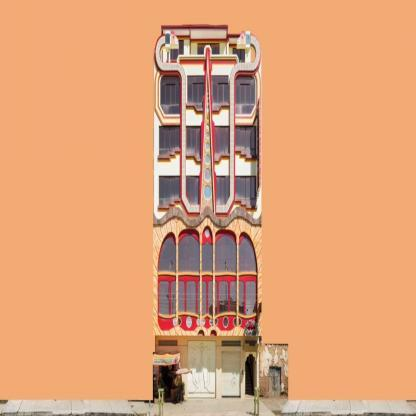Building Outline: (153, 23, 262, 400)
Door: (188, 341, 216, 398), (222, 352, 241, 399), (246, 352, 257, 396)
Facade: (152, 23, 262, 400)
Glass Wall: (158, 235, 257, 274)
Pillar: (237, 243, 239, 326), (176, 245, 178, 327), (200, 244, 202, 326), (213, 244, 215, 326)
Roof: (161, 24, 241, 38)
Shop: (153, 352, 182, 399), (257, 98, 261, 192)
Sill: (235, 148, 257, 162), (158, 149, 180, 162), (158, 199, 180, 211), (235, 199, 257, 211), (213, 103, 230, 113), (186, 103, 203, 113), (215, 153, 230, 164), (186, 153, 201, 163), (166, 60, 185, 63)
Window: (160, 76, 180, 114), (236, 76, 255, 114), (235, 126, 256, 156), (159, 177, 180, 205), (159, 127, 180, 155), (235, 177, 256, 205), (188, 76, 205, 108), (211, 76, 228, 108), (171, 281, 185, 315), (230, 281, 244, 315), (187, 127, 201, 159), (215, 127, 229, 159), (216, 176, 229, 205), (186, 177, 199, 205), (198, 44, 219, 61), (159, 281, 169, 315), (167, 40, 184, 60), (208, 281, 217, 318), (186, 281, 196, 314), (246, 282, 256, 315), (219, 281, 228, 314), (198, 281, 206, 316), (233, 48, 245, 63), (158, 341, 177, 347), (222, 341, 241, 346), (245, 341, 257, 346)
